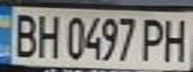0: (63, 12, 84, 61)
4: (81, 14, 103, 61)
7: (115, 14, 142, 62)
9: (100, 14, 121, 62)
B: (6, 9, 42, 58)
H: (157, 15, 193, 63), (33, 10, 63, 60)
P: (139, 15, 169, 63)
